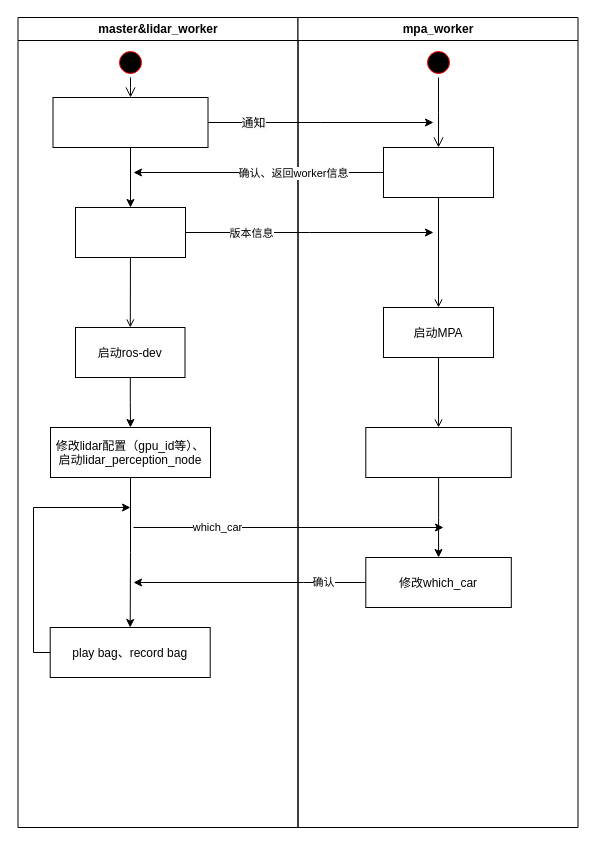
The diagram is 595 pixels wide and 845 high, and some of its shapes have lost their labels. The box of each missing label's shape, as (x1, y1, x2, y2) in pixels:
从空闲worker_list中 获得一个mpa_worker: (52, 96, 208, 148)
开始: (382, 146, 494, 198)
获得对应MPA版本: (74, 206, 186, 258)
进入docker： 修改foreign等配置信息: (365, 426, 511, 478)
